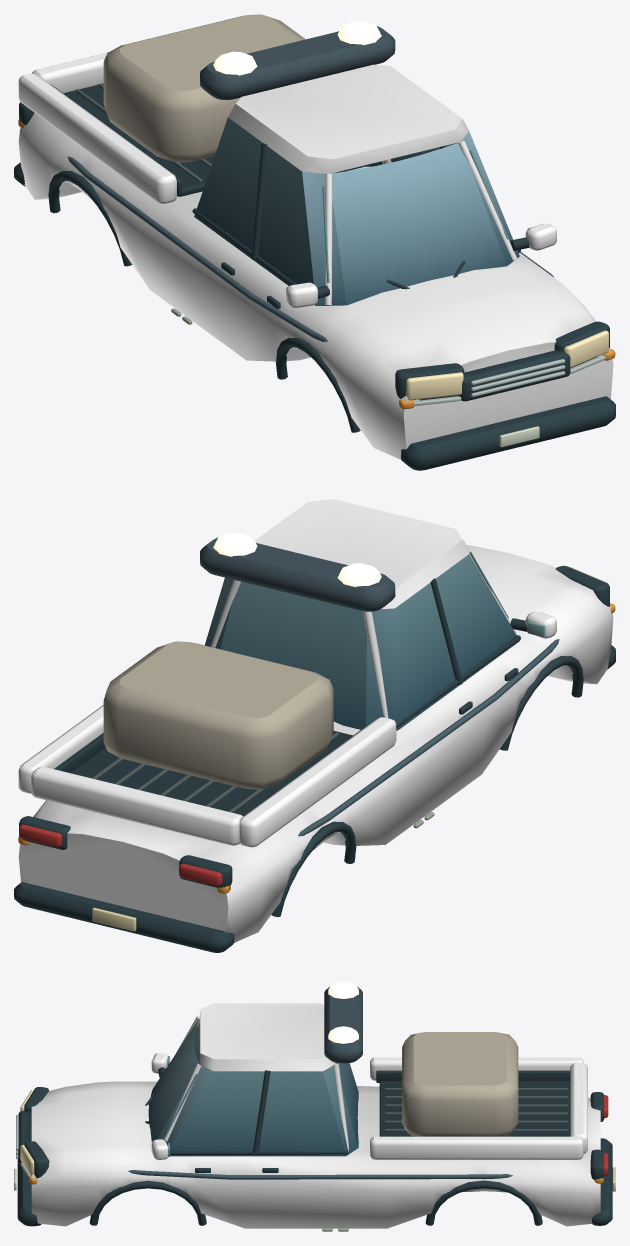
Rendered from tandem.glb.
3 renders of one model, top to bottom at view 1: azimuth 30°, elevation 25°; view 2: azimuth 150°, elevation 25°; view 3: azimuth 270°, elevation 25°, orthographic. The views are drawn at different scales.
Parts seen in each view (by area): view 1: Chassis, Headlamps; view 2: Chassis, BrakeLamps; view 3: Chassis, Headlamps.
Boxes of the visible parts, <box> form: Chassis: <box>14,14,615,470</box>; Headlamps: <box>406,330,608,400</box>; Chassis: <box>14,499,615,952</box>; BrakeLamps: <box>19,824,222,886</box>; Chassis: <box>14,981,615,1231</box>; Headlamps: <box>20,1090,34,1176</box>.
Size of the model in its own units: 1.99 by 1.78 by 5.27.
